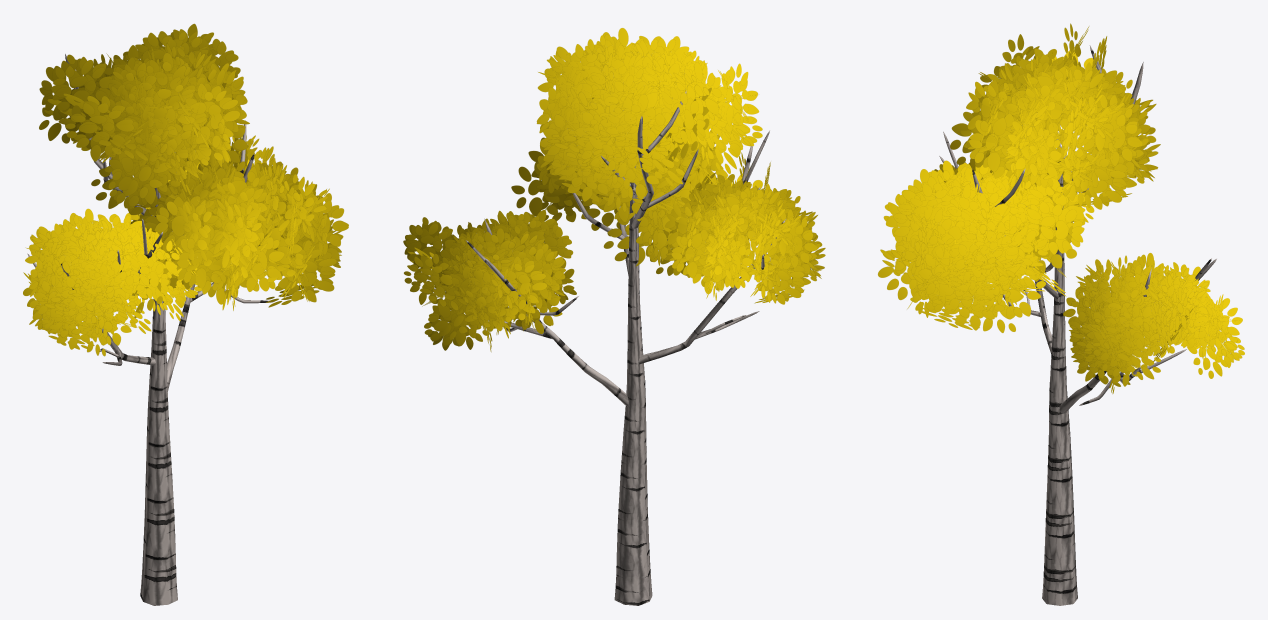
Rendered from BirchTree_5.glb.
3 views of the same model, side by side, from view 1: azimuth 30°, elevation 25°; view 2: azimuth 150°, elevation 25°; view 3: azimuth 270°, elevation 25° (orthographic). The views are drawn at different scales.
Parts seen in each view (by area): view 1: BirchTree_5; view 2: BirchTree_5; view 3: BirchTree_5.
Boxes of the visible parts, <box> form: BirchTree_5: <box>23,23,348,605</box>; BirchTree_5: <box>403,28,825,605</box>; BirchTree_5: <box>878,23,1244,605</box>.
Size of the model in its own units: 3.58 by 5.52 by 3.51.
Materials: 2 (2 with a texture image).
